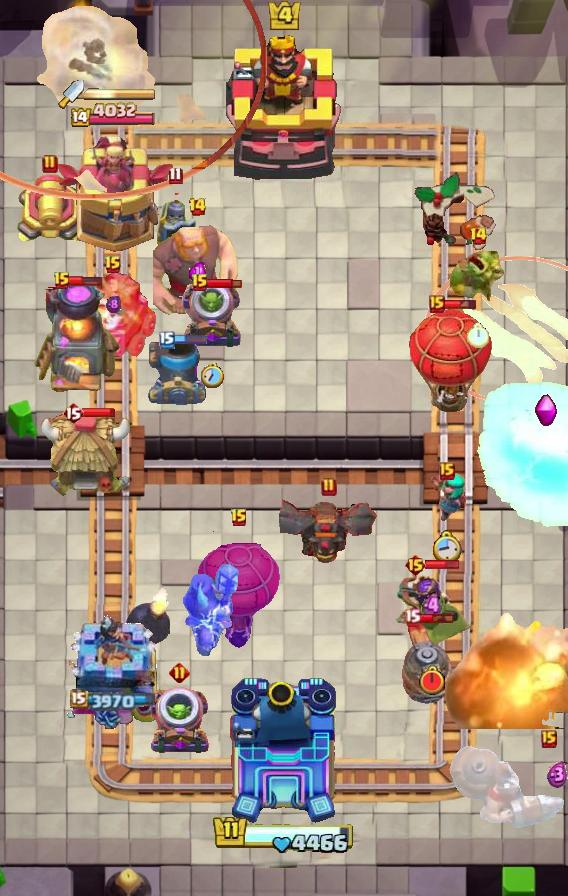archer-evolution: (279, 497, 379, 565)
baby-dragon: (125, 585, 171, 644)
balloon: (153, 221, 241, 319)
bar: (52, 132, 176, 256)
barbarian-hut: (389, 567, 475, 653)
cannon-cart: (196, 530, 282, 648), (408, 307, 494, 415)
clock: (212, 814, 356, 856)
dark-prince: (381, 621, 471, 705)
electro-spirit: (422, 590, 442, 621), (548, 761, 568, 789), (190, 262, 207, 282), (106, 295, 121, 314)
elixir: (432, 530, 462, 562), (418, 665, 446, 696), (200, 364, 223, 389), (467, 323, 489, 349)
emote: (419, 612, 455, 624), (206, 277, 241, 289), (442, 298, 477, 310), (69, 275, 102, 287), (172, 334, 208, 345), (424, 558, 460, 569), (82, 406, 116, 417)
flying-machine: (449, 251, 507, 305)
goblin-cage: (180, 280, 244, 350), (147, 686, 211, 756)
golem: (68, 268, 158, 360)
hunter: (33, 285, 121, 395)
ice-wizard: (424, 256, 568, 405)
inferno-dragon: (182, 562, 240, 656)
king-tower: (226, 33, 342, 181), (228, 676, 340, 826)
king-tower-bar: (84, 87, 156, 101)
mega-knight: (474, 381, 568, 531)
musketeer: (148, 341, 208, 405)
prince: (40, 409, 134, 499)
princess: (152, 189, 198, 253)
queen-tower: (65, 614, 162, 730)
royal-ghost: (0, 0, 267, 200)
royal-recruit: (14, 173, 86, 247)
selected: (70, 102, 157, 130), (70, 689, 158, 711)
skeleton-king-skill: (534, 394, 559, 428)
text: (404, 553, 427, 577), (62, 401, 84, 425), (169, 661, 190, 683), (189, 197, 208, 217), (468, 226, 487, 246), (104, 255, 122, 275), (53, 271, 71, 291), (191, 273, 209, 293), (230, 508, 248, 528), (403, 609, 421, 627), (42, 154, 58, 174), (321, 477, 337, 497), (429, 295, 445, 313), (159, 331, 175, 349), (439, 462, 455, 480), (541, 730, 557, 748), (169, 167, 183, 186)
valkyrie: (430, 601, 568, 729)
witch: (426, 471, 468, 523)
wizard: (448, 742, 568, 832)
